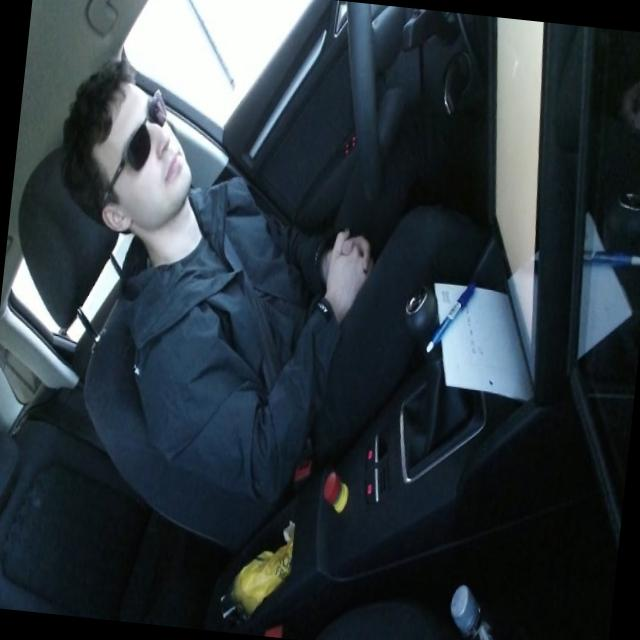pen: (424, 276, 476, 357)
